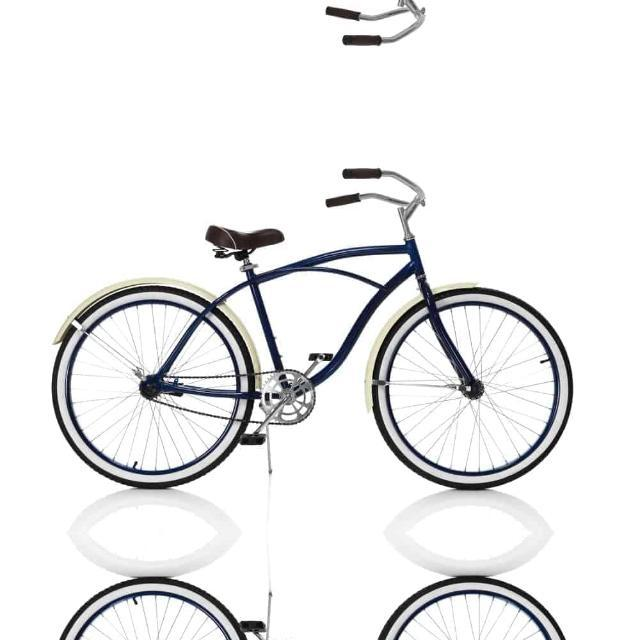obstacle: (34, 132, 588, 510), (33, 556, 588, 640), (33, 0, 588, 80)
